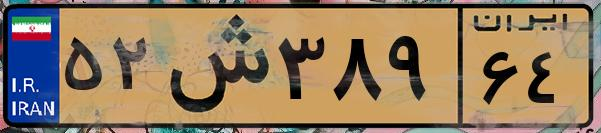2: (110, 28, 158, 98)
3: (270, 28, 330, 110)
4: (525, 38, 570, 115)
5: (57, 26, 110, 100)
6: (475, 38, 525, 113)
8: (330, 28, 385, 110)
9: (385, 28, 445, 110)
ش: (158, 12, 270, 120)
